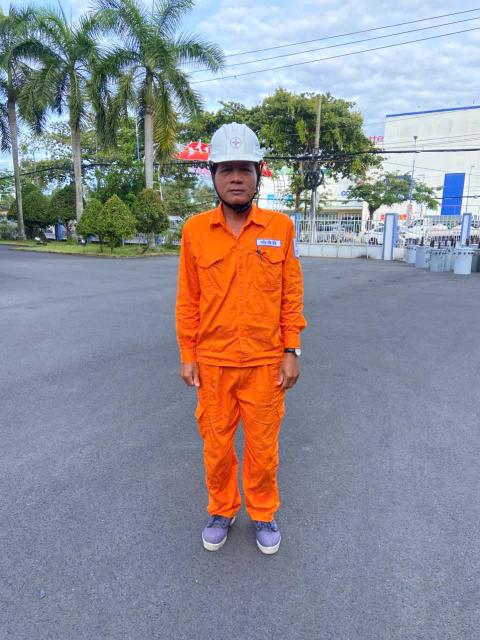helmet: (205, 113, 272, 172)
shoes: (190, 503, 238, 561), (246, 510, 288, 552)
